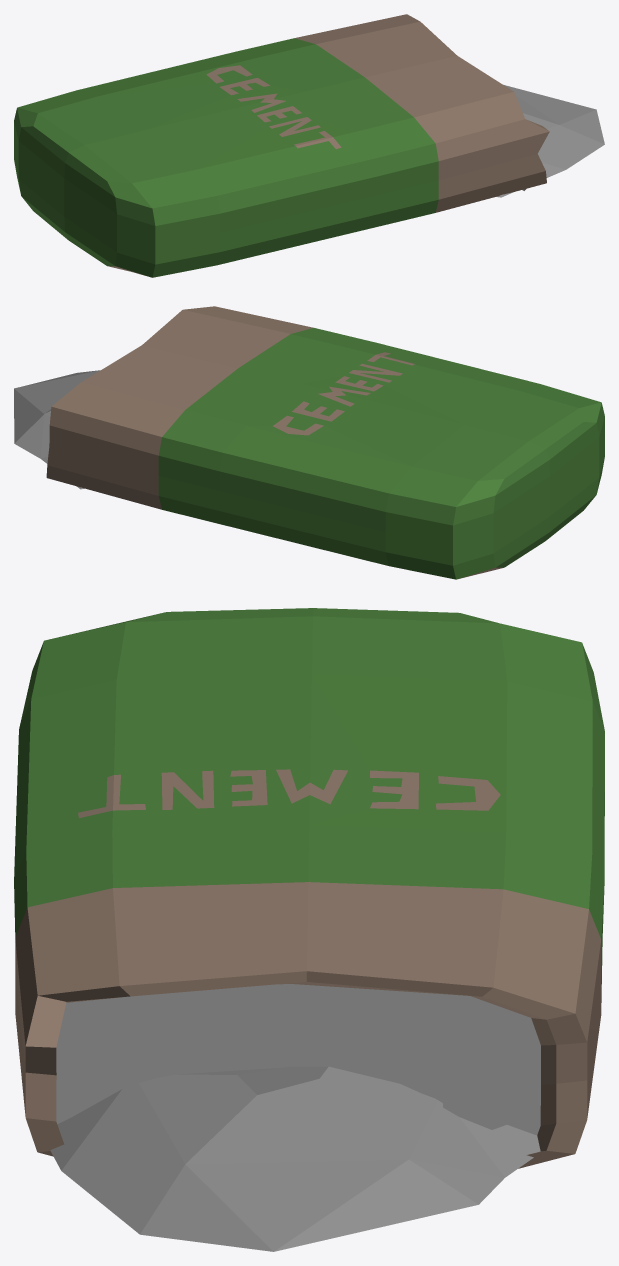
Rendered from CementC1_03.fbx.
The picture shows the model from 3 angles, top to bottom: view 1: azimuth 30°, elevation 25°; view 2: azimuth 150°, elevation 25°; view 3: azimuth 270°, elevation 25°; orthographic projection. The views are drawn at different scales.
Parts seen in each view (by area): view 1: CementC1_03; view 2: CementC1_03; view 3: CementC1_03.
Part boxes in pixels (x1,y1,x2,y2): CementC1_03: [14, 14, 604, 277]; CementC1_03: [14, 306, 604, 579]; CementC1_03: [14, 608, 604, 1251].
Size of the model in its own units: 72.45 by 12.76 by 36.24.
